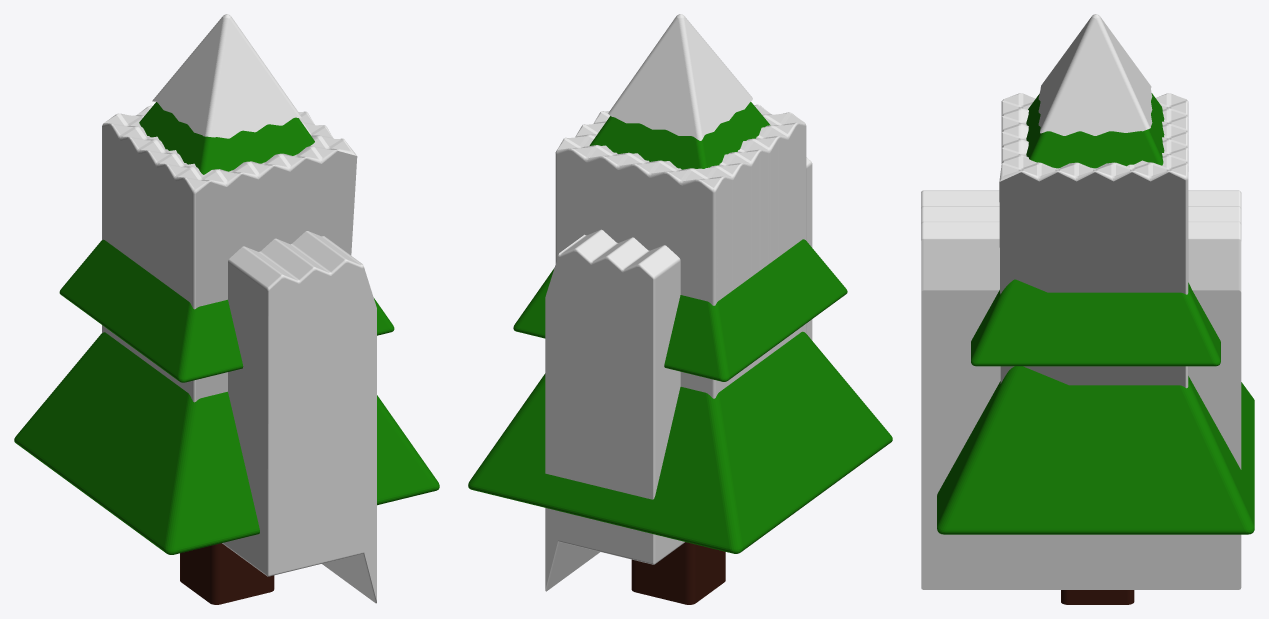
The model's file is Probs.fbx.
3 views of the same model, side by side, from view 1: azimuth 30°, elevation 25°; view 2: azimuth 150°, elevation 25°; view 3: azimuth 270°, elevation 25° (orthographic).
Parts seen in each view (by area): view 1: Cube.006, Cube.001, Cube, Cube.002, Cube.000, Cube.005, Cube.003; view 2: Cube.001, Cube.006, Cube, Cube.002, Cube.000, Cube.005, Cube.003; view 3: Cube.006, Cube.001, Cube, Cube.002, Cube.000, Cube.005, Cube.003.
Boxes of the visible parts, <box> form: Cube.006: <box>222,231,376,603</box>; Cube.001: <box>14,332,439,554</box>; Cube: <box>102,105,357,402</box>; Cube.002: <box>59,239,394,382</box>; Cube.000: <box>152,14,301,138</box>; Cube.005: <box>139,102,314,174</box>; Cube.003: <box>180,543,274,604</box>; Cube.001: <box>468,331,892,553</box>; Cube.006: <box>545,157,812,591</box>; Cube: <box>555,104,806,398</box>; Cube.002: <box>513,239,847,381</box>; Cube.000: <box>608,14,752,140</box>; Cube.005: <box>589,102,770,169</box>; Cube.003: <box>631,542,725,604</box>; Cube.006: <box>921,190,1241,589</box>; Cube.001: <box>937,366,1254,534</box>; Cube: <box>999,93,1188,388</box>; Cube.002: <box>971,279,1220,366</box>; Cube.000: <box>1038,14,1152,135</box>; Cube.005: <box>1026,93,1164,168</box>; Cube.003: <box>1061,590,1134,604</box>.
Size of the model in its own units: 199 by 396 by 208.
